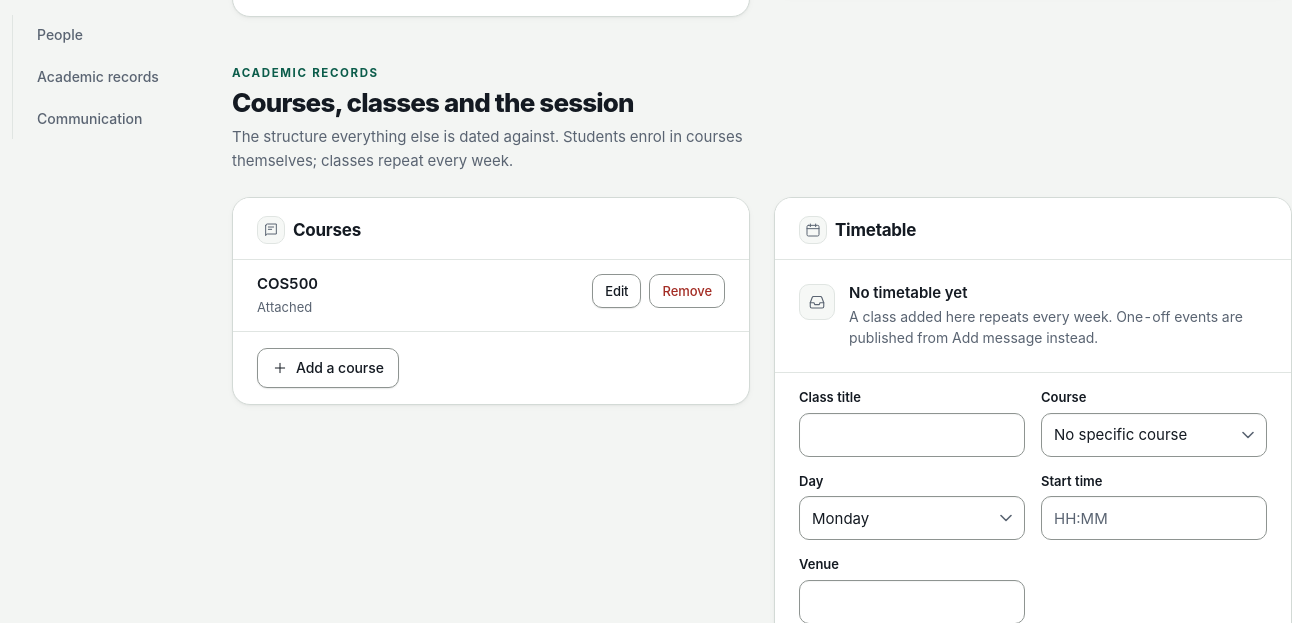
course removal blocking › names the records that block removal
(page scrolled)
Step 1. Click the button "Remove" → {"x": 687, "y": 291}, box [650,274,725,308]
(page scrolled)
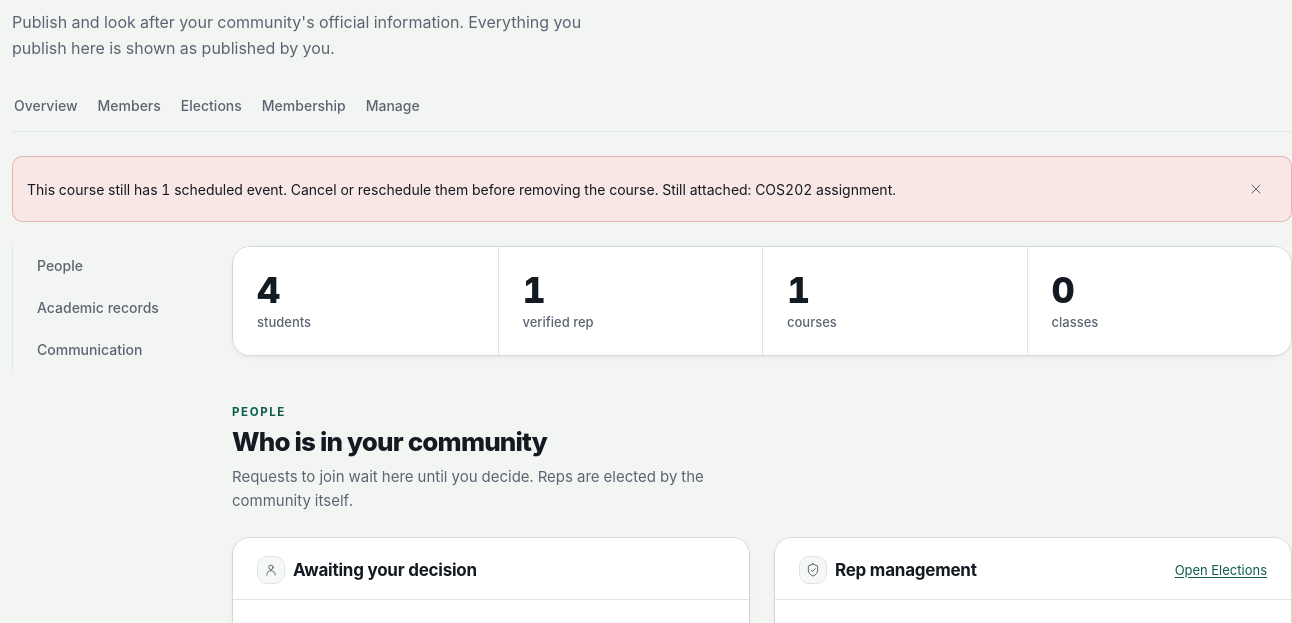
Expected: the text "Still attached: COS202 assignment" is shown, [27,181,896,198]
